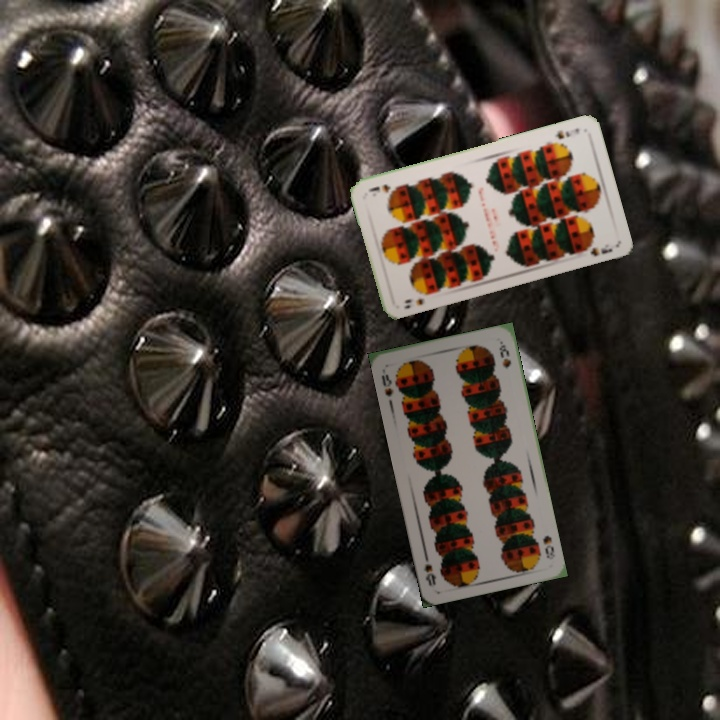S8: (377, 365, 396, 400), (539, 531, 558, 562)
S9: (551, 124, 582, 141), (399, 294, 427, 311)
